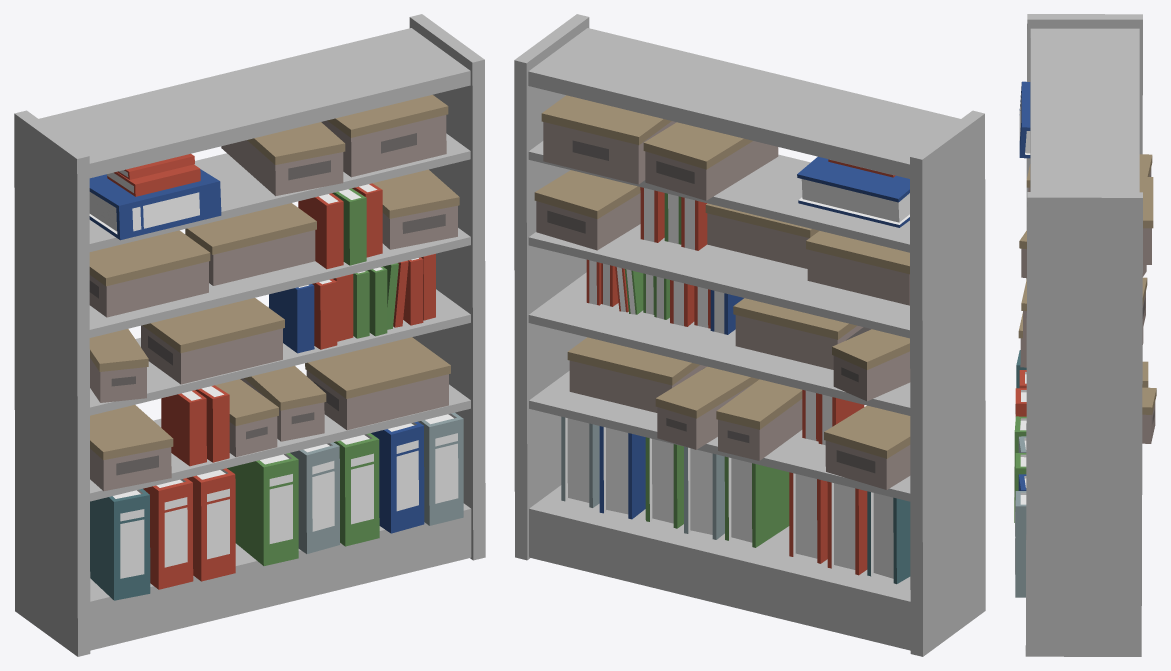
File: SM_Shelf_02.FBX
The picture shows the model from 3 angles, left to right: view 1: azimuth 30°, elevation 25°; view 2: azimuth 150°, elevation 25°; view 3: azimuth 270°, elevation 25°; orthographic projection. The views are drawn at different scales.
Visible parts, largest first — view 1: SM_Shelf_02; view 2: SM_Shelf_02; view 3: SM_Shelf_02.
Boxes of the visible parts, x1=… form: SM_Shelf_02: x1=14, y1=14, x2=485, y2=656; SM_Shelf_02: x1=514, y1=14, x2=985, y2=656; SM_Shelf_02: x1=1014, y1=14, x2=1156, y2=656.
Bounding box in the file's own units: 181 × 211 × 59.33.
1 material, 1 textured.
